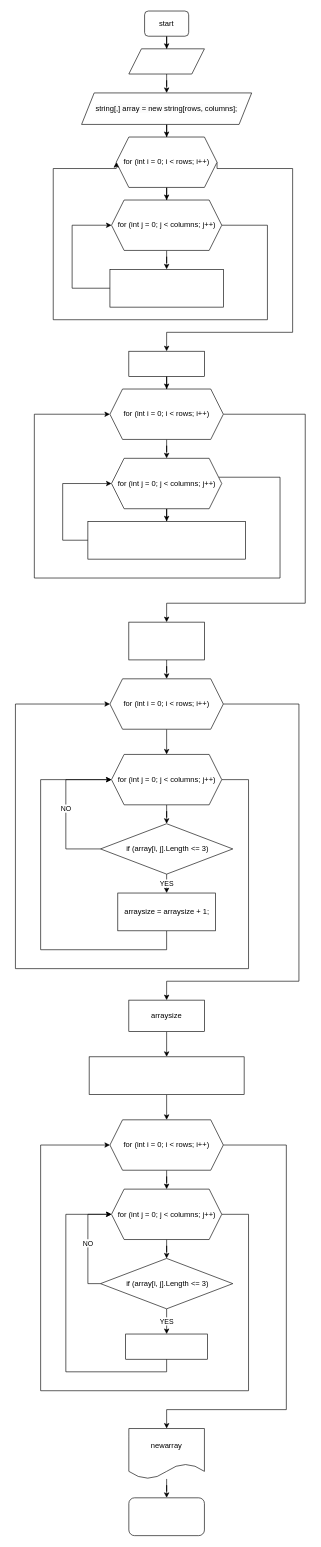
This 321x1547 diagram has some shape labels left out. The shapes that lost their labels are listed below. From the top down, each one's centre as x and y in pixels, then its label:
[166,61]: rows columns
[166,288]: array[i, j] = Console.ReadLine()!;
[166,363]: array
[166,540]: Console.Write($" элемент-{i},{j}- {array[i, j]}");
[166,640]: int arraysize = 0;
[166,1075]: string[] newarray = new string[arraysize + 1];
[166,1346]: newarray[i] = array[i, j];
[166,1516]: Stop
